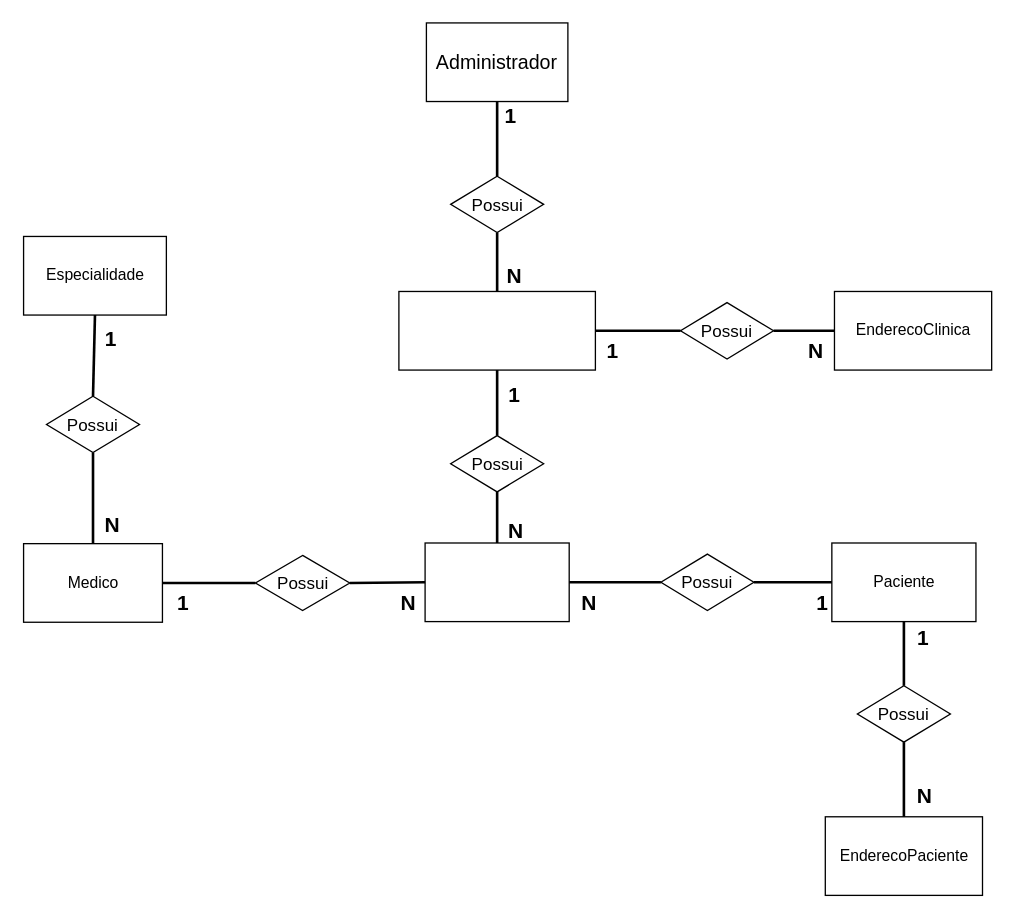
Image size: 1014x918. Some labels were removed from this diagram. Here are the shapes that lost their labels. From the top down, the box of each, then its label:
(398, 290, 595, 370): Clinica
(424, 542, 569, 622): Consultas
